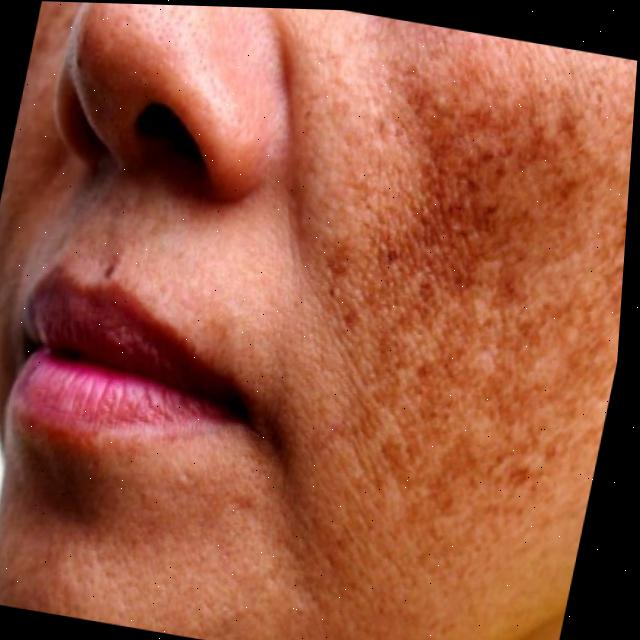Melasma: (282, 81, 635, 494)
